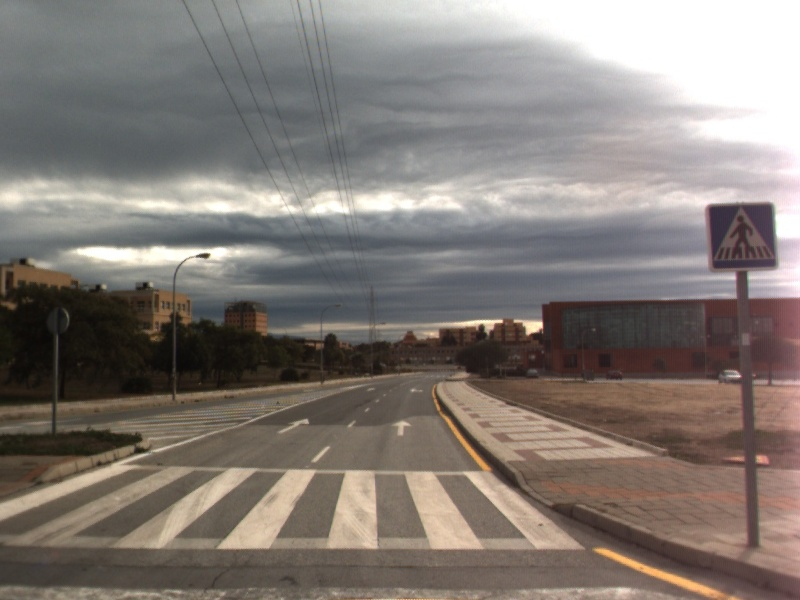STRAIGHT: (274, 416, 311, 436), (389, 418, 414, 438)
